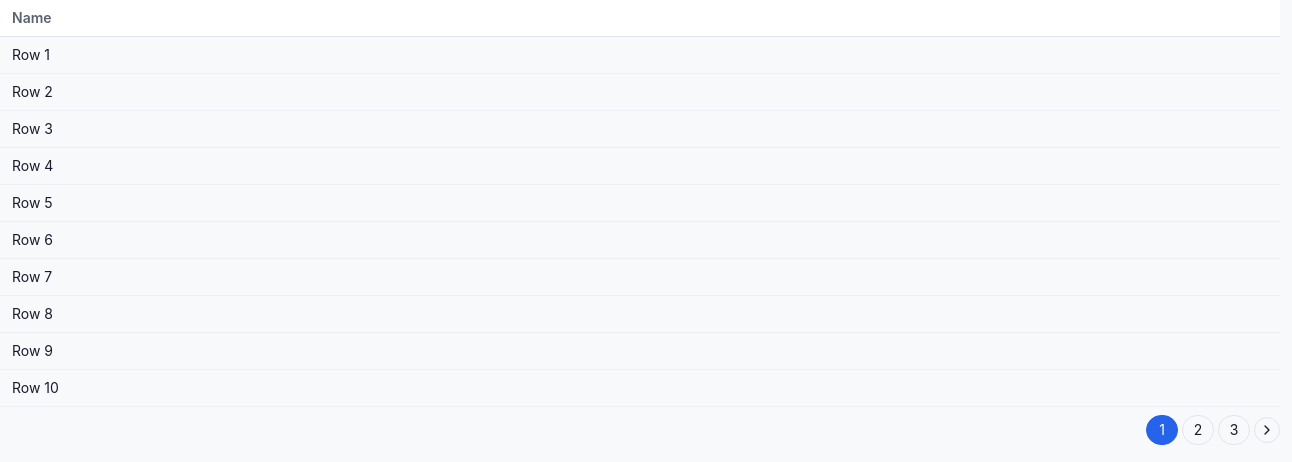
Test: QqqTableWidget paging › shows 10 rows per page when rowsPerPage is unset, with numbered pages and chevrons
Click the button named "Page 3" at (1234, 430), box [1218, 415, 1250, 445]
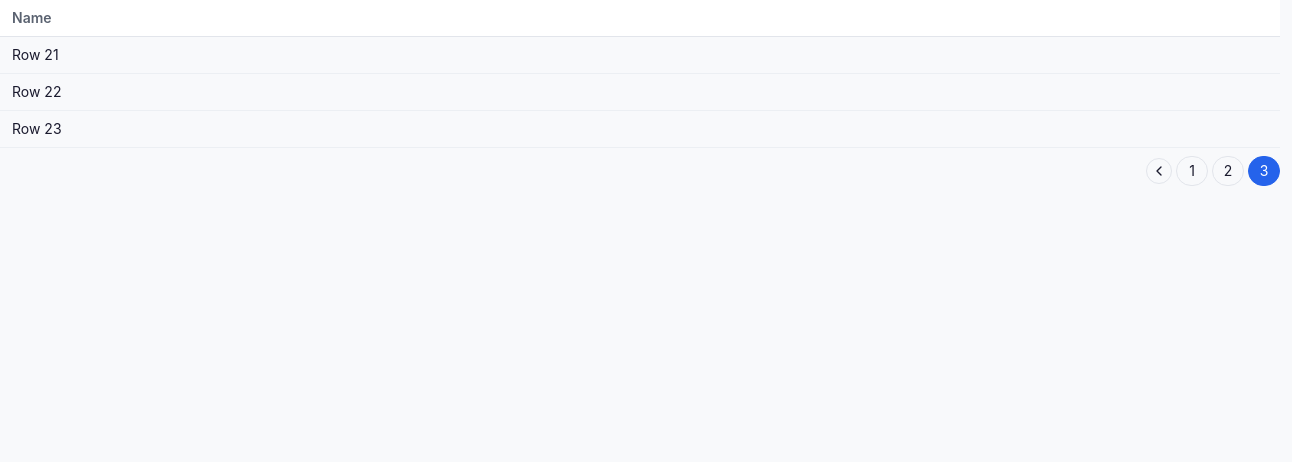
Click the button named "Previous page" at (1159, 171), box [1146, 158, 1172, 184]
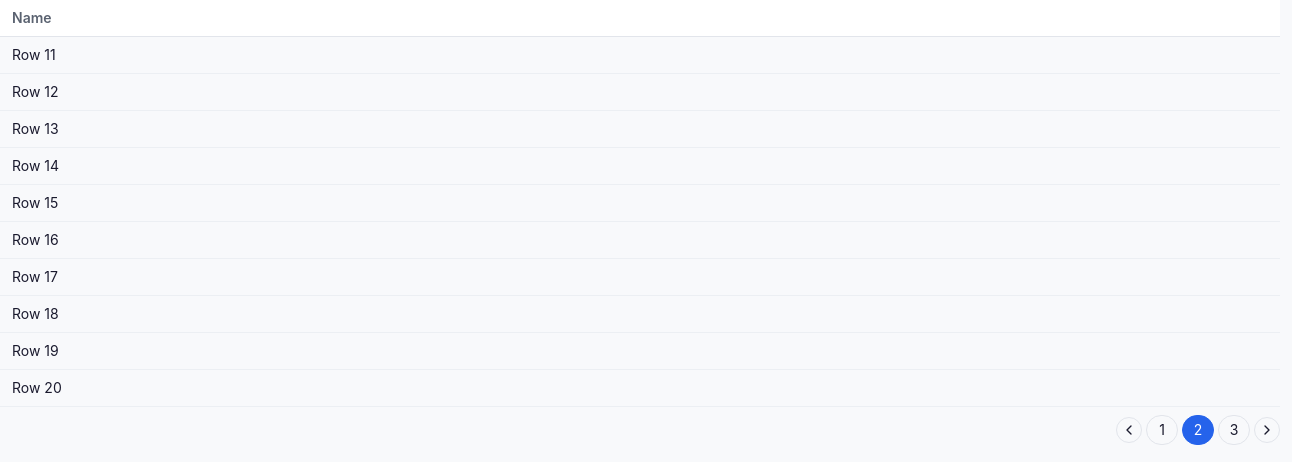
expect the cell "Row 11" is shown: met, box [0, 36, 1280, 74]
